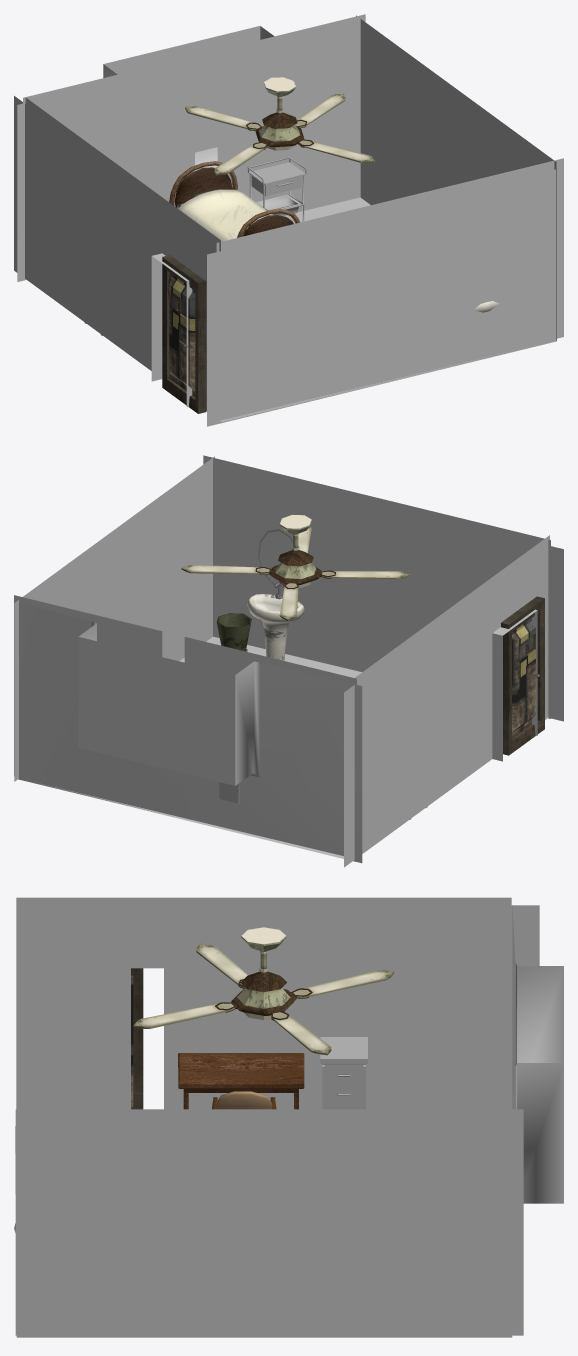
File: TheTexturedRoom.fbx
3 views of the same model, one above another, from view 1: azimuth 30°, elevation 25°; view 2: azimuth 150°, elevation 25°; view 3: azimuth 270°, elevation 25° (orthographic). The views are drawn at different scales.
Parts seen in each view (by area): view 1: polySurface155, polySurface161, polySurface157, polySurface160, polySurface148, polySurface159, polySurface158, polySurface175, pasted__polySurface42, polySurface178, polySurface191, pasted__polySurface39 (+4 smaller); view 2: polySurface159, polySurface158, polySurface161, polySurface157, polySurface175, pasted__polySurface42, polySurface160, polySurface148, polySurface162, pasted__polySurface39, polySurface155, polySurface192 (+3 smaller); view 3: polySurface156, polySurface162, polySurface159, polySurface157, polySurface161, polySurface175, Hospital_Room:table, Hospital_Room:polySurface235, pasted__polySurface42, Hospital_Room:chair, polySurface172.
Part boxes in pixels (left/top/right/bottom): polySurface155: left=207, top=169, right=556, bottom=426; polySurface161: left=14, top=96, right=212, bottom=411; polySurface157: left=356, top=15, right=556, bottom=340; polySurface160: left=217, top=14, right=365, bottom=211; polySurface148: left=23, top=56, right=194, bottom=278; polySurface159: left=17, top=26, right=360, bottom=281; polySurface158: left=216, top=158, right=563, bottom=338; polySurface175: left=185, top=93, right=374, bottom=175; pasted__polySurface42: left=162, top=255, right=206, bottom=413; polySurface178: left=178, top=189, right=273, bottom=241; polySurface191: left=169, top=161, right=300, bottom=237; pasted__polySurface39: left=169, top=272, right=195, bottom=396; polySurface159: left=18, top=602, right=362, bottom=863; polySurface158: left=203, top=455, right=550, bottom=718; polySurface161: left=344, top=547, right=542, bottom=867; polySurface157: left=14, top=456, right=214, bottom=781; polySurface175: left=181, top=526, right=409, bottom=620; pasted__polySurface42: left=501, top=596, right=544, bottom=755; polySurface160: left=14, top=595, right=162, bottom=775; polySurface148: left=184, top=637, right=356, bottom=684; polySurface162: left=355, top=535, right=549, bottom=719; pasted__polySurface39: left=512, top=618, right=535, bottom=738; polySurface155: left=551, top=546, right=563, bottom=721; polySurface192: left=247, top=593, right=304, bottom=660; polySurface156: left=16, top=1119, right=512, bottom=1337; polySurface162: left=16, top=897, right=511, bottom=1109; polySurface159: left=512, top=905, right=563, bottom=1203; polySurface157: left=15, top=1109, right=523, bottom=1335; polySurface161: left=164, top=905, right=539, bottom=1109; polySurface175: left=133, top=943, right=394, bottom=1055; Hospital_Room:table: left=178, top=1053, right=304, bottom=1109; Hospital_Room:polySurface235: left=320, top=1037, right=367, bottom=1109; pasted__polySurface42: left=131, top=968, right=143, bottom=1109; Hospital_Room:chair: left=212, top=1091, right=276, bottom=1109; polySurface172: left=241, top=927, right=286, bottom=972.
Size of the model in its own units: 39.75 by 24.6 by 41.66.
